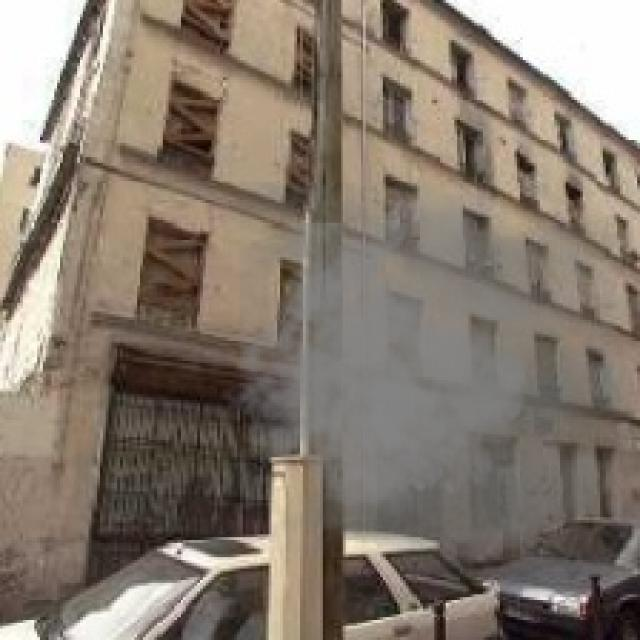smoke: (226, 180, 634, 569)
